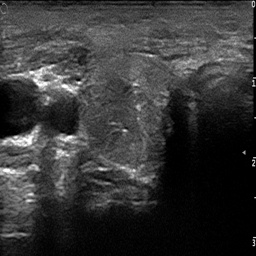mass: (80, 66, 142, 164)
